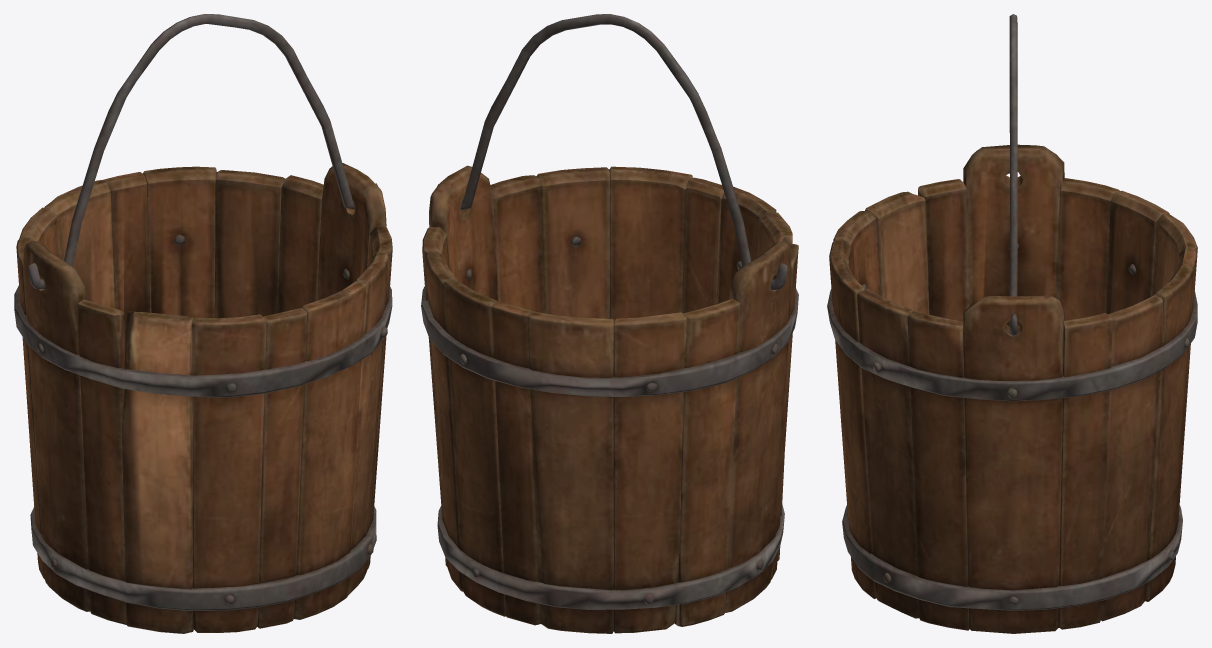
Rendered from bucket.glb.
The picture shows the model from 3 angles, left to right: view 1: azimuth 30°, elevation 25°; view 2: azimuth 150°, elevation 25°; view 3: azimuth 270°, elevation 25°; orthographic projection.
Parts seen in each view (by area): view 1: wooden_bucket_01; view 2: wooden_bucket_01; view 3: wooden_bucket_01.
Boxes of the visible parts, bbox=[...] form: wooden_bucket_01: bbox=[14, 14, 392, 633]; wooden_bucket_01: bbox=[421, 14, 798, 633]; wooden_bucket_01: bbox=[827, 14, 1197, 633].
Bounding box in the file's own units: 0.367 × 0.5499 × 0.3419.
Materials: 1 (1 with a texture image).
